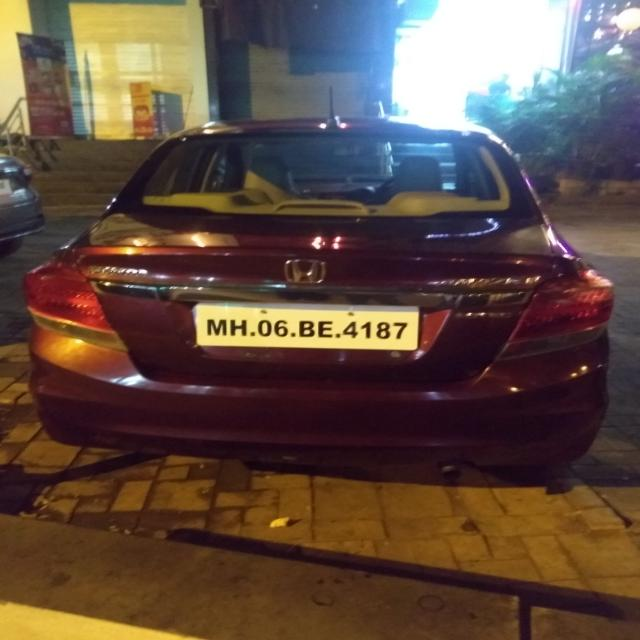Number-Plate: (198, 303, 416, 352)
